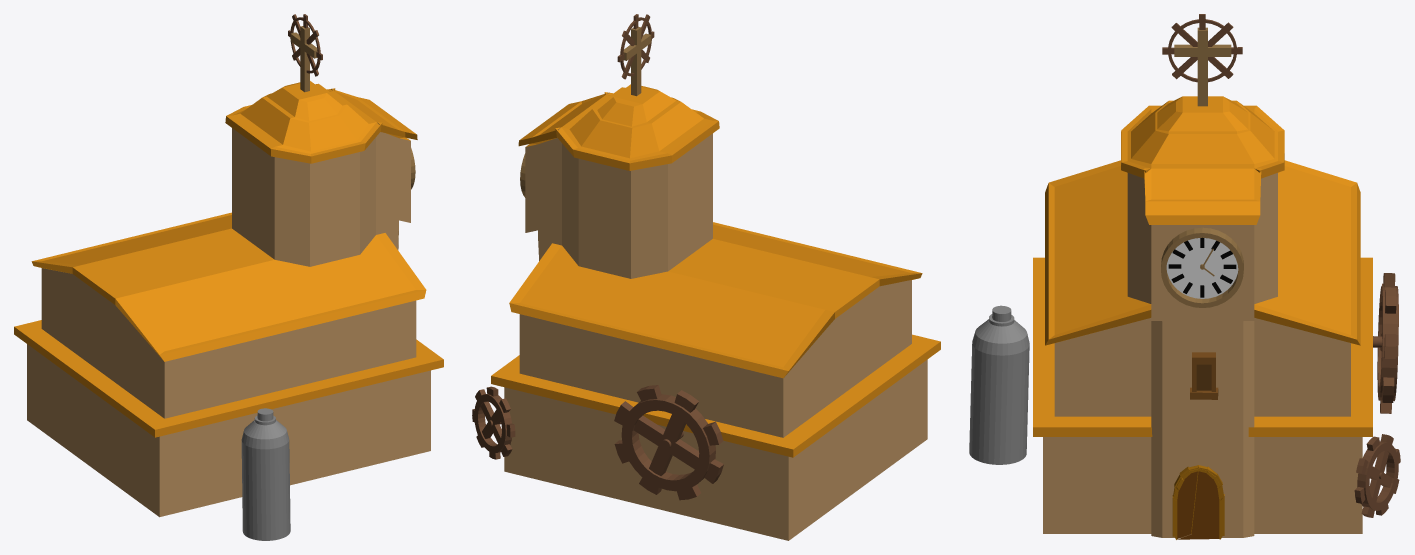
Rendered from Church_Design_2.fbx.
The picture shows the model from 3 angles, left to right: view 1: azimuth 30°, elevation 25°; view 2: azimuth 150°, elevation 25°; view 3: azimuth 270°, elevation 25°; orthographic projection. The views are drawn at different scales.
Visible parts, largest first — view 1: Cube, Cylinder.877, Cube.002, Cylinder; view 2: Cube, Cylinder.320, Cylinder.003, Cube.002, Cylinder; view 3: Cube, Cylinder.877, Clock Face.011, Cube.522, Cylinder.003, Cylinder.320, Cylinder, Cube.002, Cube.510.
Boxes of the visible parts, x1,y1,x2,y2 form: Cube: (14, 81, 443, 517); Cylinder.877: (241, 420, 290, 540); Cube.002: (290, 26, 317, 92); Cylinder: (288, 14, 322, 76); Cube: (491, 84, 940, 540); Cylinder.320: (614, 385, 723, 500); Cylinder.003: (472, 386, 515, 459); Cube.002: (623, 26, 651, 96); Cylinder: (617, 14, 654, 79); Cube: (1033, 96, 1372, 537); Cylinder.877: (969, 319, 1029, 464); Clock Face.011: (1161, 227, 1243, 307); Cube.522: (1172, 465, 1224, 539); Cylinder.003: (1354, 434, 1400, 517); Cylinder.320: (1377, 273, 1398, 413); Cylinder: (1162, 14, 1242, 82); Cube.002: (1174, 27, 1231, 106); Cube.510: (1190, 352, 1218, 399).
Bounding box in the file's own units: 1520 × 1959 × 1498.
